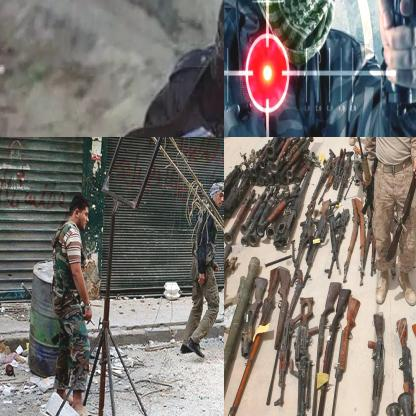pistol: (380, 0, 415, 109)
rifle: (225, 265, 281, 415), (308, 289, 349, 415), (307, 282, 342, 415), (327, 296, 362, 415), (274, 279, 303, 409), (384, 137, 415, 258), (292, 290, 317, 415), (365, 308, 389, 415), (239, 273, 267, 359), (350, 137, 375, 230), (393, 316, 414, 414), (326, 199, 350, 269), (288, 207, 312, 276), (305, 207, 328, 277), (342, 195, 358, 282), (311, 153, 335, 210), (356, 195, 365, 290), (336, 152, 352, 198), (410, 321, 415, 399)
